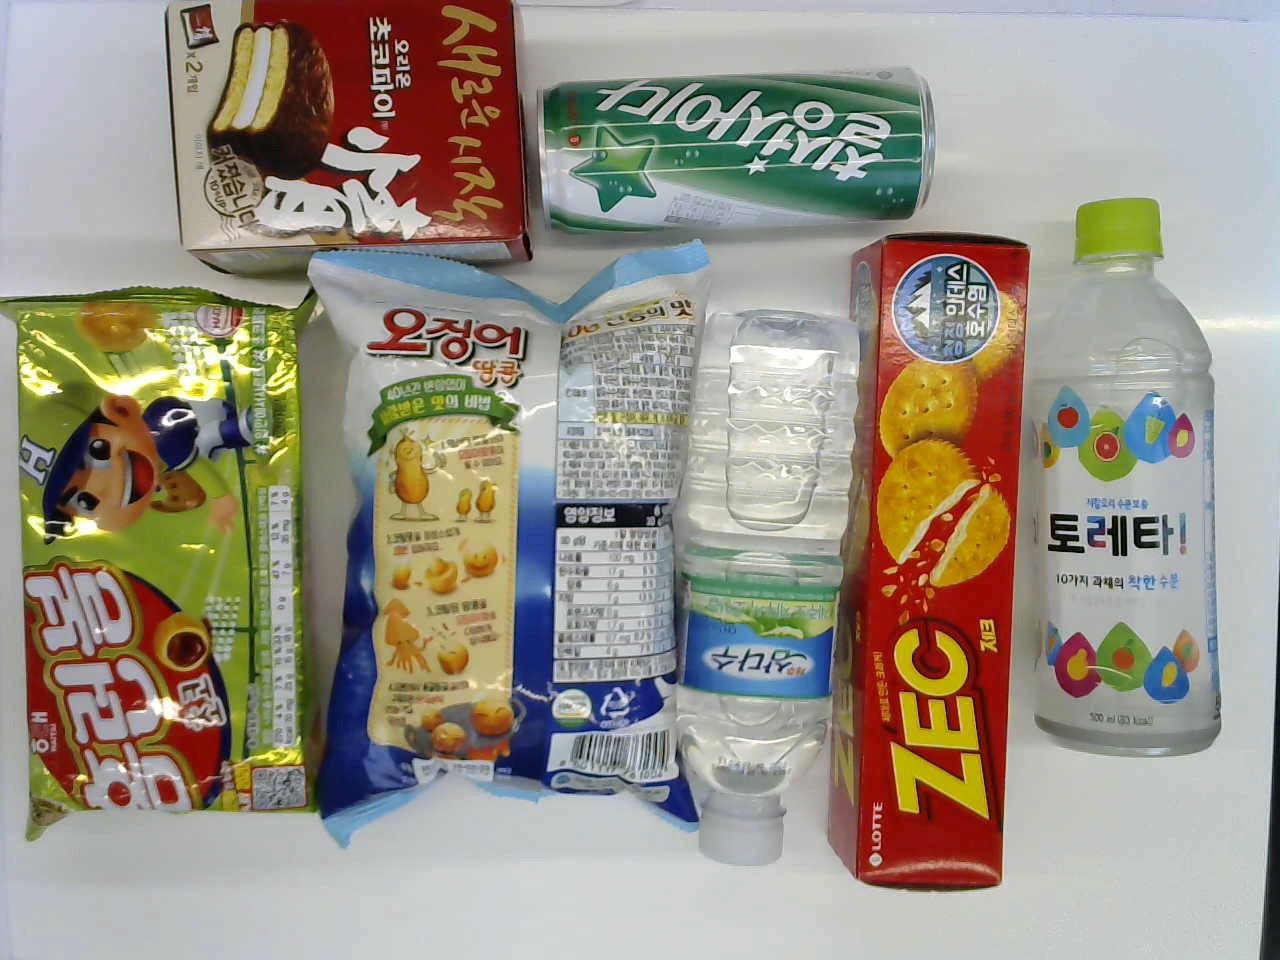chocopie: (154, 5, 515, 271)
cidar: (534, 57, 932, 242)
homerunball: (20, 271, 312, 841)
samdasu: (676, 305, 868, 882)
squid_peanut: (314, 248, 698, 827)
toreta: (1043, 192, 1223, 762)
zec: (846, 232, 1039, 891)
